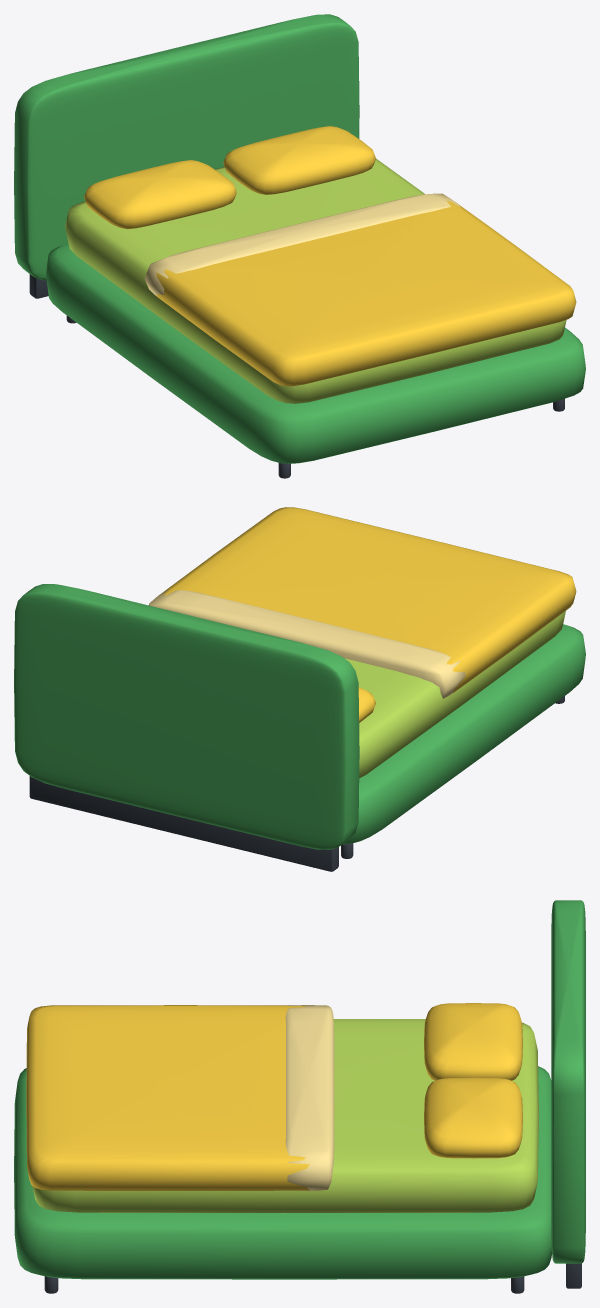
Rendered from cama_casal_estofada_verde.glb.
3 views of the same model, one above another, from view 1: azimuth 30°, elevation 25°; view 2: azimuth 150°, elevation 25°; view 3: azimuth 270°, elevation 25° (orthographic). The views are drawn at different scales.
Visible parts, largest first — view 1: cama_casal_estofada_verde; view 2: cama_casal_estofada_verde; view 3: cama_casal_estofada_verde.
Boxes of the visible parts, <box> form: cama_casal_estofada_verde: <box>14,14,585,478</box>; cama_casal_estofada_verde: <box>14,507,585,871</box>; cama_casal_estofada_verde: <box>14,900,585,1293</box>.
Size of the model in its own units: 1.58 by 1 by 2.13.
Materials: 1 (1 with a texture image).
